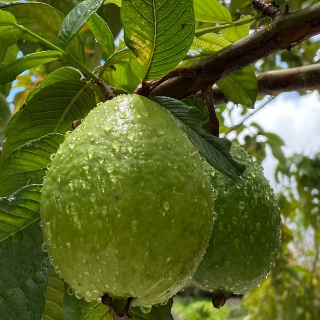oi: (43, 95, 213, 305)
